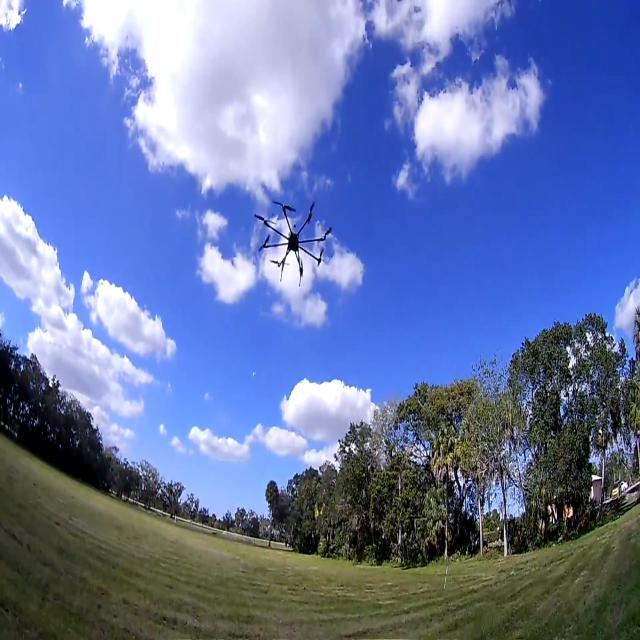drone: (257, 192, 333, 305)
